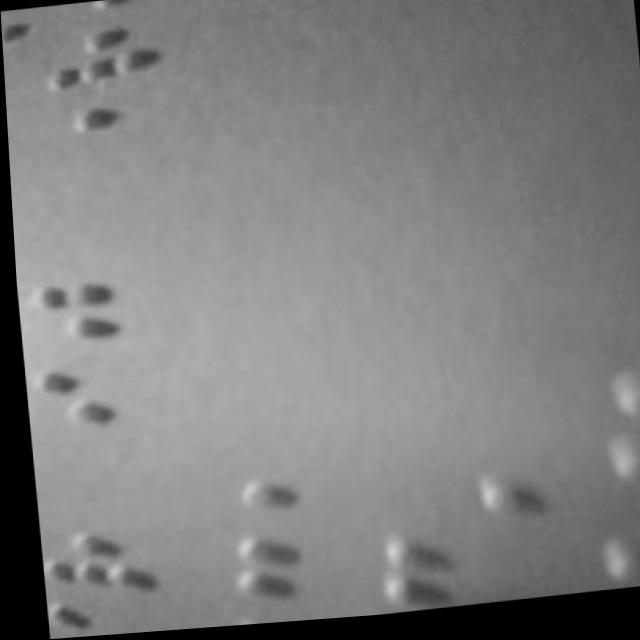braiile: (14, 100, 170, 191), (20, 353, 182, 440), (19, 267, 175, 353), (27, 22, 171, 103), (32, 519, 162, 603), (589, 438, 640, 533), (596, 339, 640, 437), (589, 540, 640, 598), (58, 0, 169, 22)
